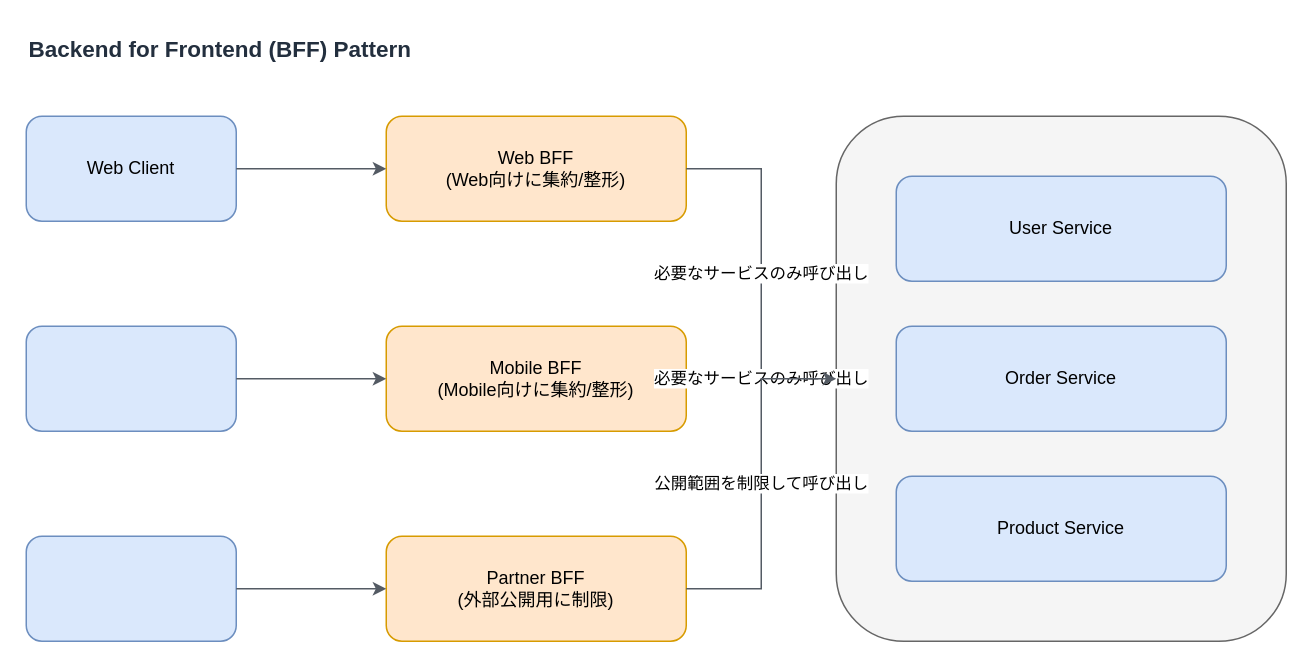
The diagram is 1313 pixels wide and 668 high, and some of its shapes have lost their labels. The box of each missing label's shape, as (x1, y1, x2, y2) in pixels:
Mobile Client: (25, 325, 236, 431)
Partner / 3rd-party: (25, 535, 236, 641)
共有バックエンドマイクロサービス: (835, 115, 1286, 641)
